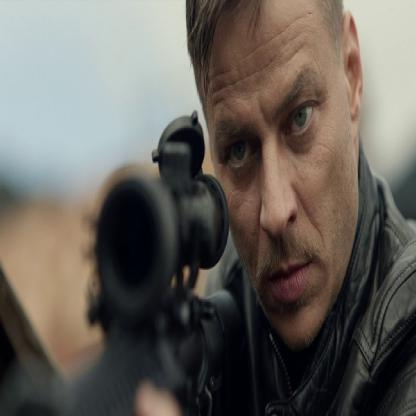Gun: (3, 110, 248, 415)
